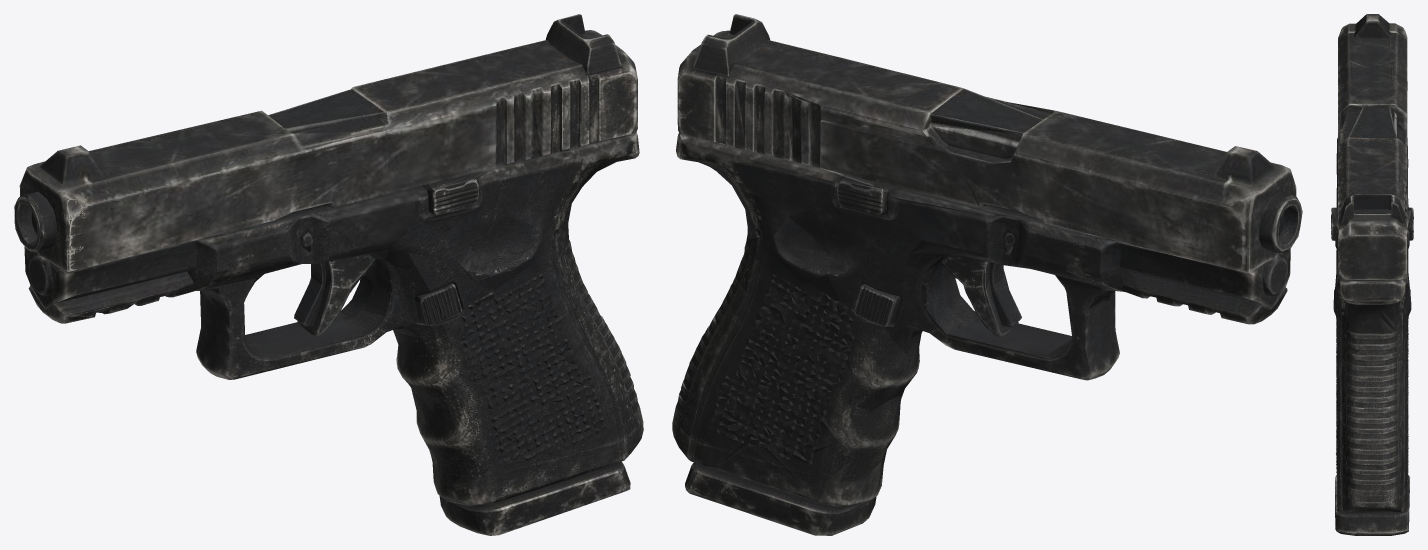
Rendered from pistol.glb.
The picture shows the model from 3 angles, left to right: view 1: azimuth 30°, elevation 25°; view 2: azimuth 150°, elevation 25°; view 3: azimuth 270°, elevation 25°; orthographic projection. The views are drawn at different scales.
Visible parts, largest first — view 1: Mesh_0; view 2: Mesh_0; view 3: Mesh_0.
Boxes of the visible parts, box(x1,y1,x2,y2) form: Mesh_0: box(14, 14, 643, 535); Mesh_0: box(672, 14, 1302, 535); Mesh_0: box(1331, 14, 1413, 535).
Size of the model in its own units: 1.9 by 1.4 by 0.3106.
1 material, 1 textured.
